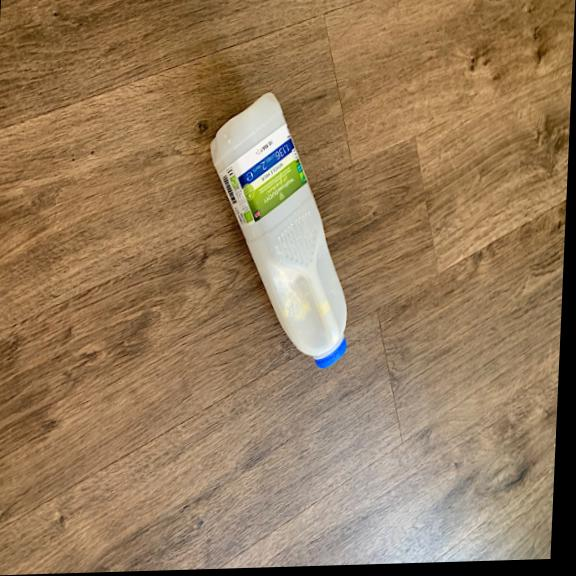Plastik: (190, 83, 363, 374)
